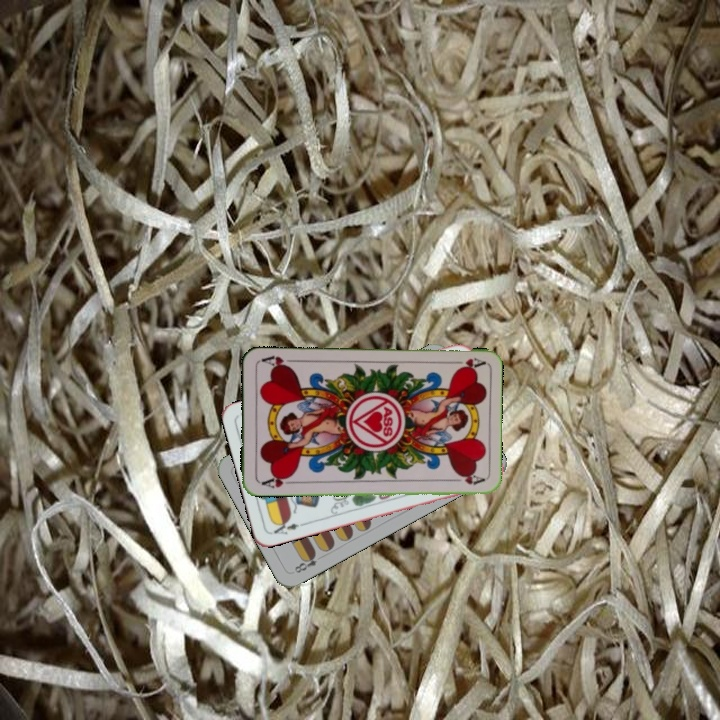E8: (290, 549, 319, 576)
EA: (269, 516, 307, 537)
HA: (256, 472, 297, 491), (445, 354, 486, 372)
